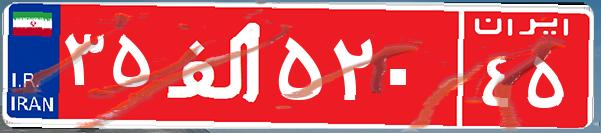0: (385, 28, 445, 110)
2: (330, 28, 385, 110)
3: (57, 26, 110, 107)
4: (475, 38, 525, 113)
5: (273, 28, 330, 110), (110, 28, 158, 105), (525, 38, 570, 115)
الف: (158, 15, 273, 115)
